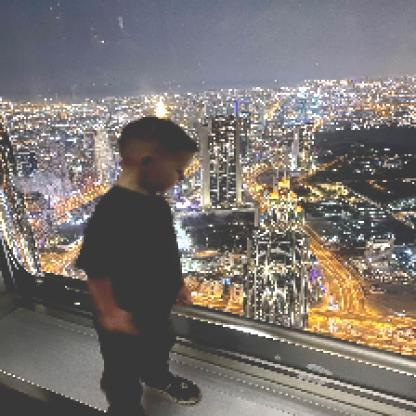child: (74, 116, 204, 415)
